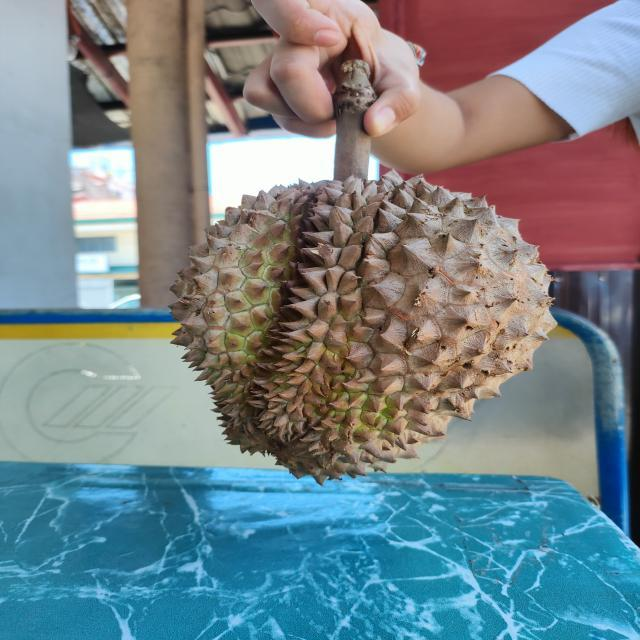mature: (168, 170, 559, 487)
